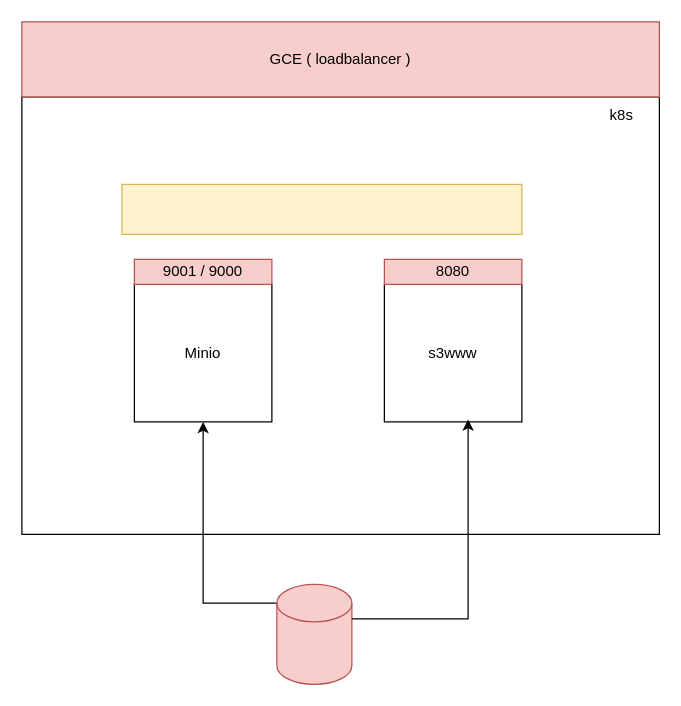
The diagram is 681 pixels wide and 706 high, and some of its shapes have lost their labels. Here are the shapes that lost their labels. From the top down, the centre of each, then its label:
(x=321, y=208): Ingress
(x=314, y=633): Secret
